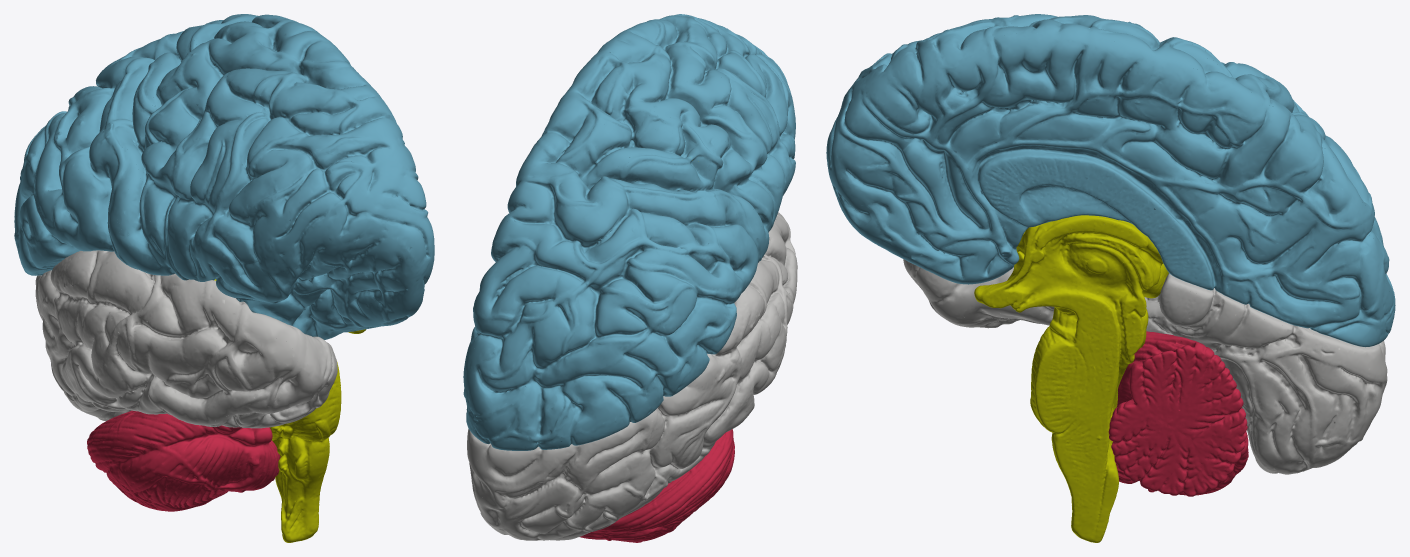
The model's file is compressed_brain.glb.
3 renders of one model, left to right at view 1: azimuth 30°, elevation 25°; view 2: azimuth 150°, elevation 25°; view 3: azimuth 270°, elevation 25°, orthographic. The views are drawn at different scales.
Visible parts, largest first — view 1: Frontal-parietal_R_2.001, Temporal_R_3.001, Cerebellum_R_1.001, BrainStem_R_0.001; view 2: Frontal-parietal_R_2.001, Temporal_R_3.001, Cerebellum_R_1.001; view 3: Frontal-parietal_R_2.001, BrainStem_R_0.001, Temporal_R_3.001, Cerebellum_R_1.001.
Boxes of the visible parts, x1,y1,x2,y2 form: Frontal-parietal_R_2.001: (14,14,434,339); Temporal_R_3.001: (35,250,337,428); Cerebellum_R_1.001: (87,410,280,511); BrainStem_R_0.001: (214,279,365,542); Frontal-parietal_R_2.001: (463,14,795,450); Temporal_R_3.001: (467,212,797,540); Cerebellum_R_1.001: (580,429,734,542); Frontal-parietal_R_2.001: (826,14,1395,347); BrainStem_R_0.001: (974,215,1168,542); Temporal_R_3.001: (903,259,1387,474); Cerebellum_R_1.001: (1108,331,1248,496).
Bounding box in the file's own units: 0.6462 × 1.43 × 1.45.
